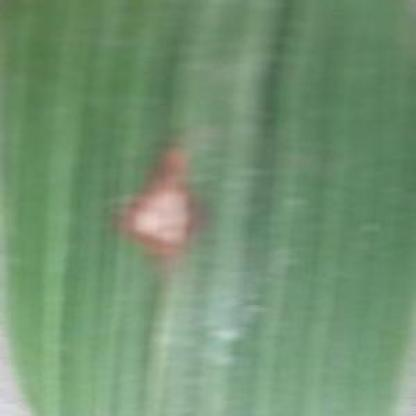Rice blast: (98, 151, 227, 282)
